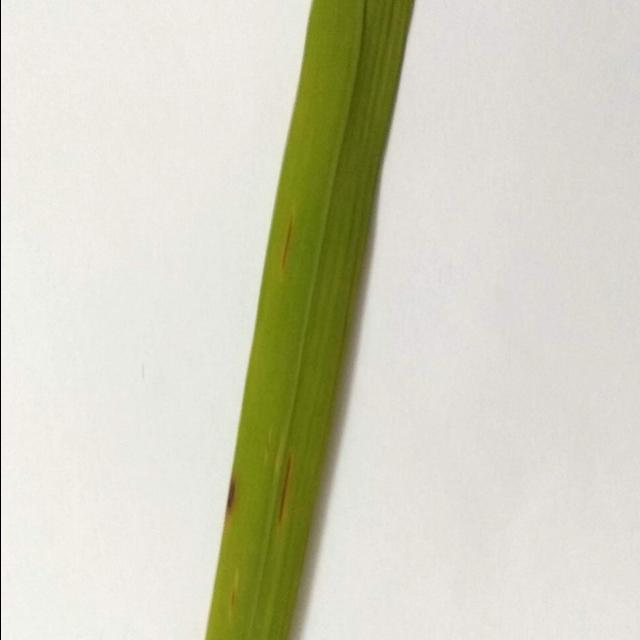Brown spot: (176, 0, 438, 640)
